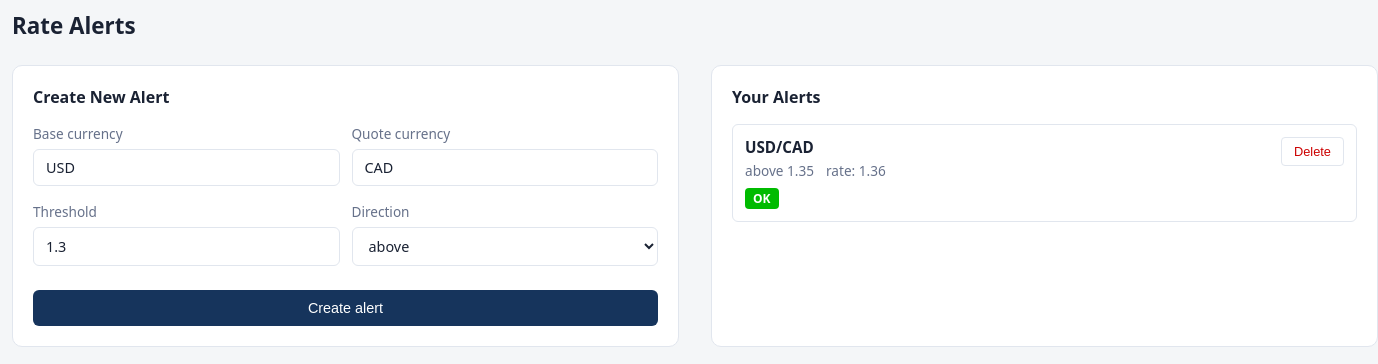
Scenario: AlertsPanel › deleting alerts › removes alert from list on deleteAlert success
This screenshot has width=1378, height=364.
Check: the number of elements with class "alert-row" is 1, box [732,124,1357,222]
Step 1. Click the button with class "delete-btn" → (1312, 152), box [1281,137,1344,166]
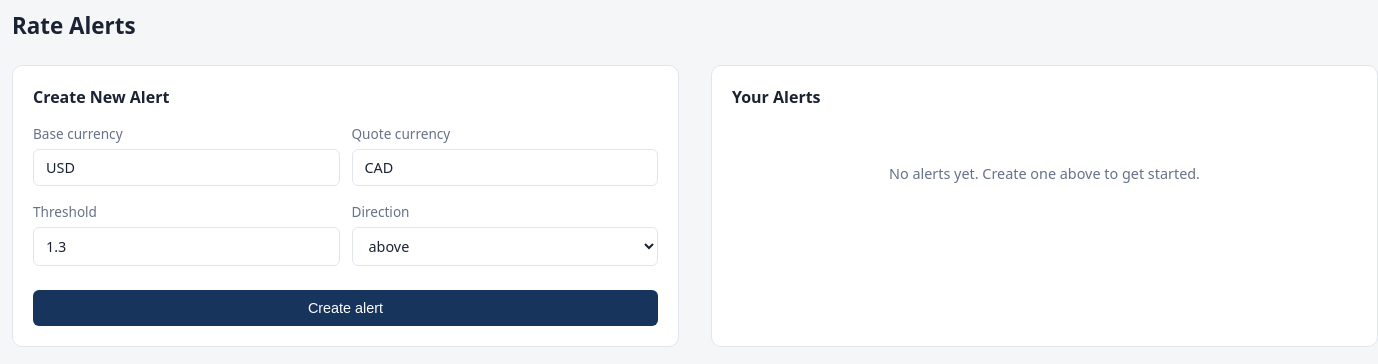
Check: no elements with class "alert-row" are shown
Check: the text "No alerts yet" is shown, box [889,164,1200,183]
